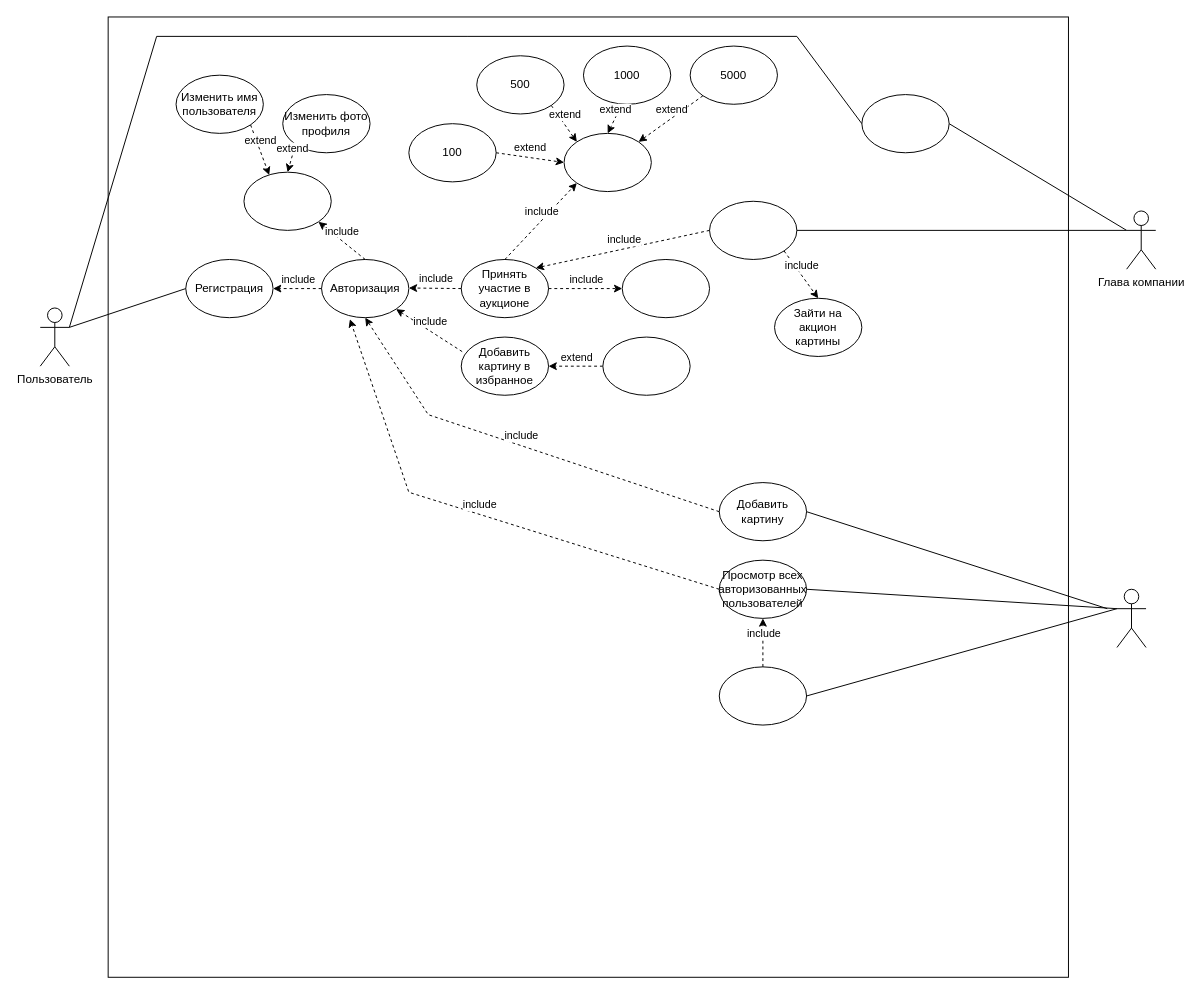
Image size: 1201x994. Some labels were removed from this diagram. Each missing label, with the centre of its shape:
"Администратор" goes at point 1131,617.
"База данных" goes at point 762,695.
"Получить результаты аукциона" goes at point 753,229.
"Посмотреть все картины" goes at point 905,123.
"Поставить свою сумму денег" goes at point 665,288.
"Поставить сумму денег" goes at point 607,162.
"Редактировать профиль" goes at point 287,200.
"Убрать из избранного" goes at point 646,365.
